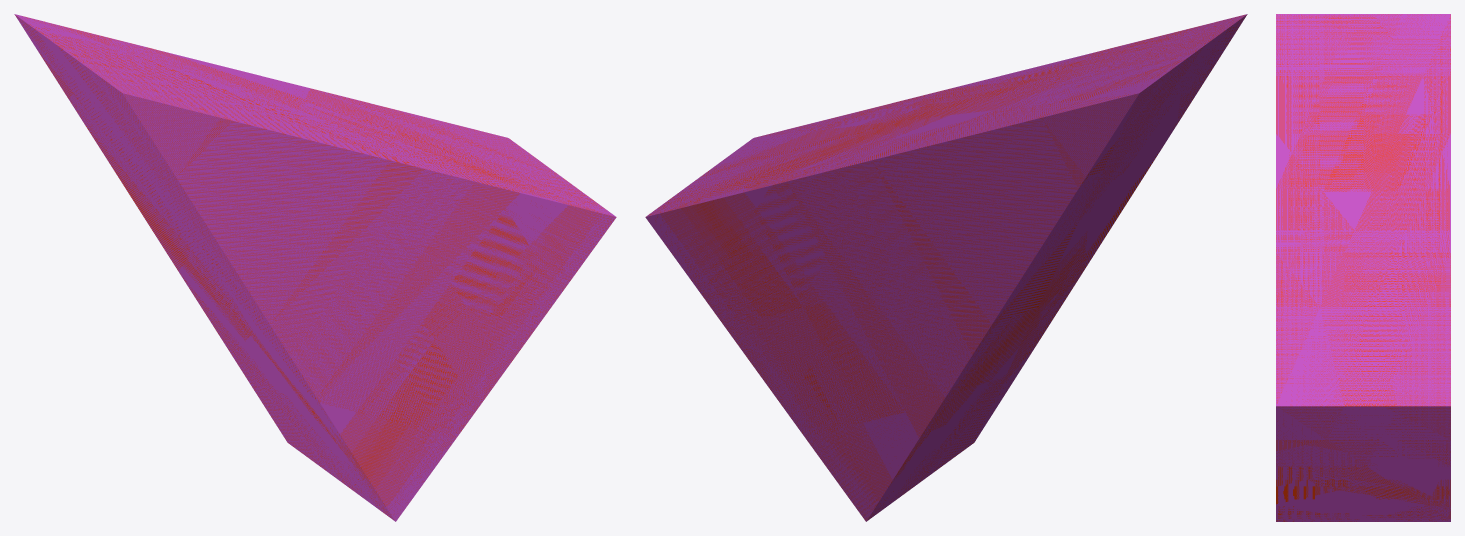
File: cake_purple.dae
The picture shows the model from 3 angles, left to right: view 1: azimuth 30°, elevation 25°; view 2: azimuth 150°, elevation 25°; view 3: azimuth 270°, elevation 25°; orthographic projection. The views are drawn at different scales.
Parts seen in each view (by area): view 1: SketchUp; view 2: SketchUp; view 3: SketchUp.
Part boxes in pixels (box(x1,y1,x2,y2)): SketchUp: box(14, 14, 616, 521); SketchUp: box(645, 14, 1247, 521); SketchUp: box(1276, 14, 1450, 521).
Size of the model in its own units: 128 by 48.43 by 122.
